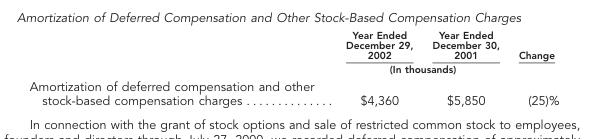table: (28, 28, 558, 107)
table column: (28, 28, 338, 107), (422, 28, 508, 107), (338, 28, 422, 107), (508, 28, 558, 107)
table column header: (28, 28, 558, 76)
table row: (28, 28, 558, 61), (28, 76, 558, 107), (28, 61, 558, 76)
table spanning cell: (338, 61, 508, 76), (508, 28, 558, 76)
